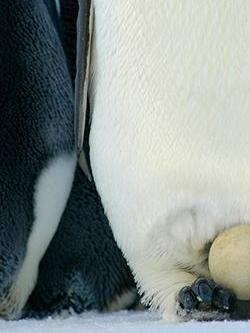Emperor Penguin: (57, 0, 250, 329)
